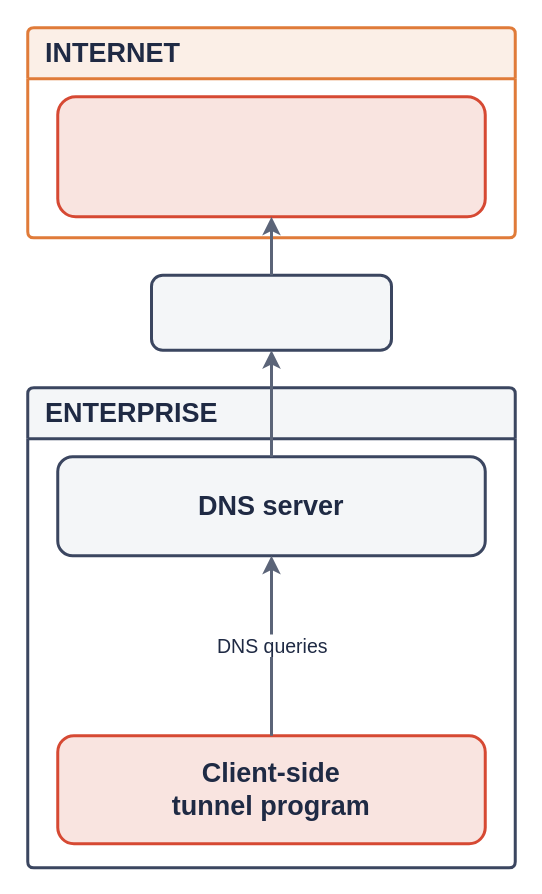
The diagram is 542 pixels wide and 894 high, and some of its shapes have lost their labels. Each missing label, with the centre of its shape:
"Firewall" belongs at point (270, 312).
"Tunnel endpoint Attacker’s server" belongs at point (271, 156).
